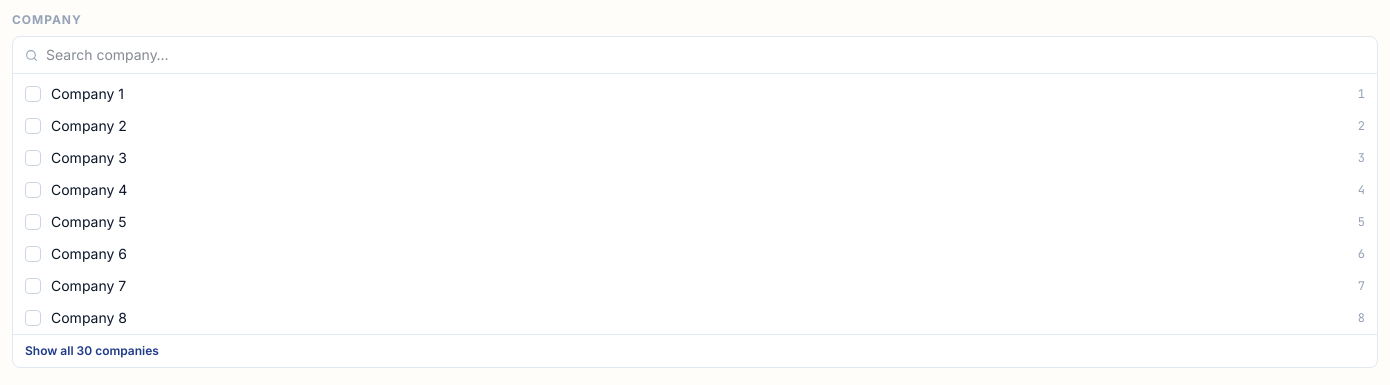
Test: MultiSelect mobile progressive disclosure › labels search and reveals long inline lists on request
Expected: the field labelled "Search company" is shown, [46,45,1365,65]
Click the button "Show all 30 companies". click: (92, 350)
box: [13,335,1377,367]
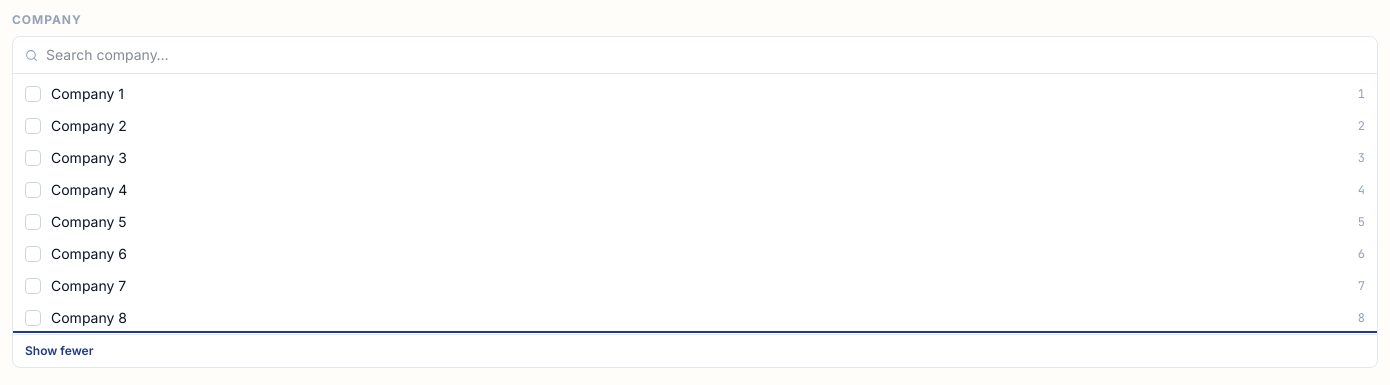
Expected: the button "Show fewer" is shown, [13,335,1377,367]
